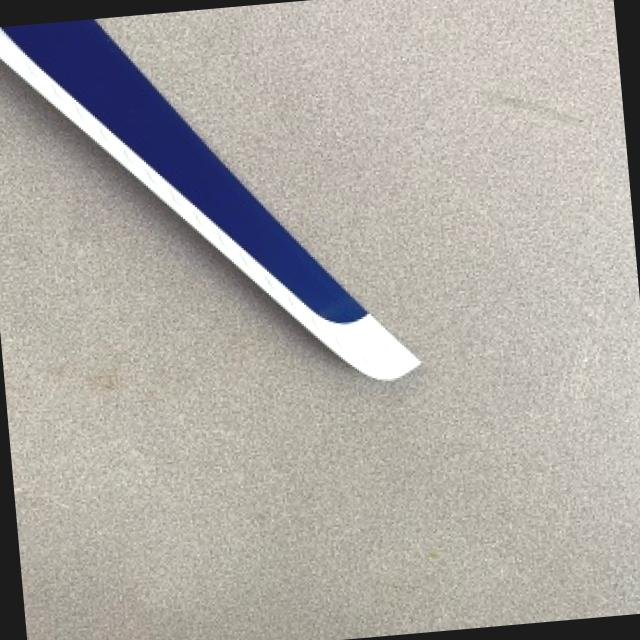healthy: (0, 18, 422, 378)
